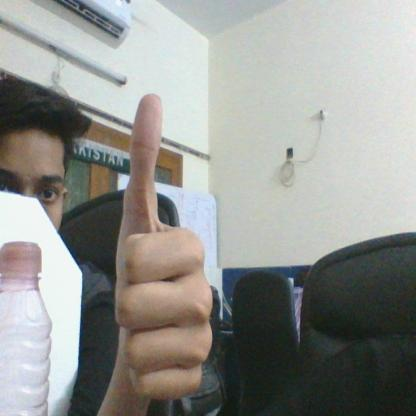thumbs-up: (108, 90, 233, 395)
